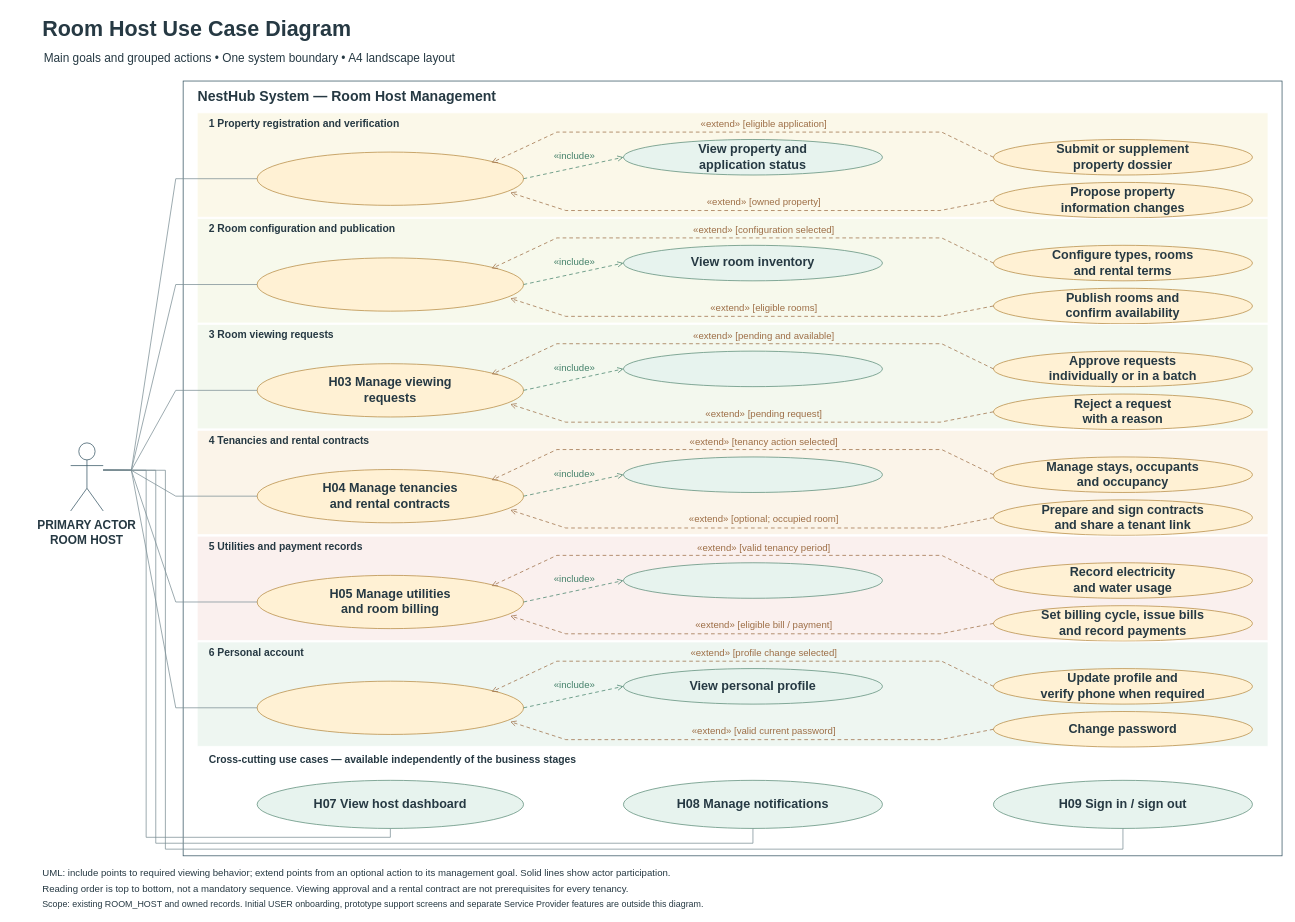
Some shapes in this 1295 by 922 pixel diagram are drawn without their labels. Here are the shapes that lost their labels. From the top down, the centre of each, then its label:
the point at 390,178: H01 Manage property applications and information
the point at 390,284: H02 Manage room types and individual rooms
the point at 752,368: View incoming requests
the point at 752,474: View tenancy profile and history
the point at 752,580: View utility and billing ledgers
the point at 390,707: H06 Manage personal profile and credentials
